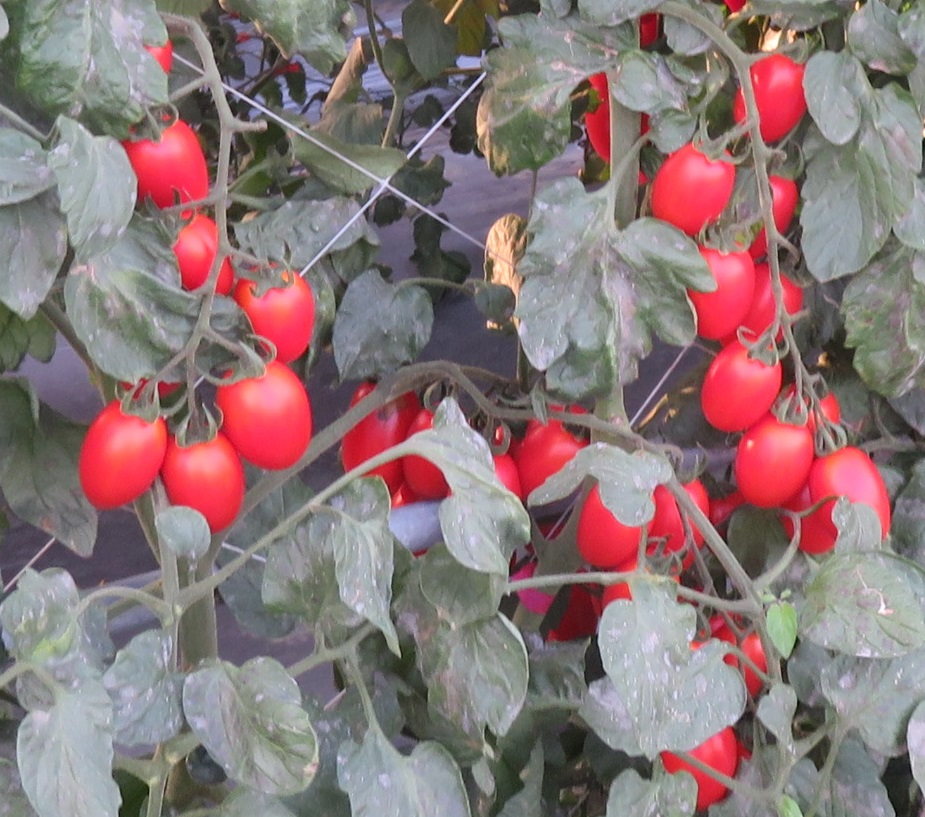red: (208, 364, 316, 470), (74, 402, 169, 510), (157, 428, 245, 533), (340, 381, 421, 493), (811, 440, 895, 544), (124, 112, 208, 210), (648, 142, 733, 234), (234, 269, 317, 363), (734, 412, 813, 503), (698, 338, 772, 434), (689, 239, 754, 339), (658, 727, 737, 807), (165, 211, 232, 300), (647, 479, 711, 571), (517, 417, 591, 493), (732, 58, 801, 137), (574, 496, 641, 566), (403, 407, 453, 500), (751, 170, 798, 263), (584, 70, 613, 164)
